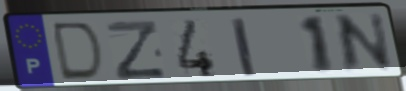1: (299, 14, 335, 76)
4: (175, 18, 218, 79)
D: (52, 20, 107, 84)
I: (228, 15, 259, 79)
N: (333, 10, 396, 76)
Z: (103, 19, 169, 83)
